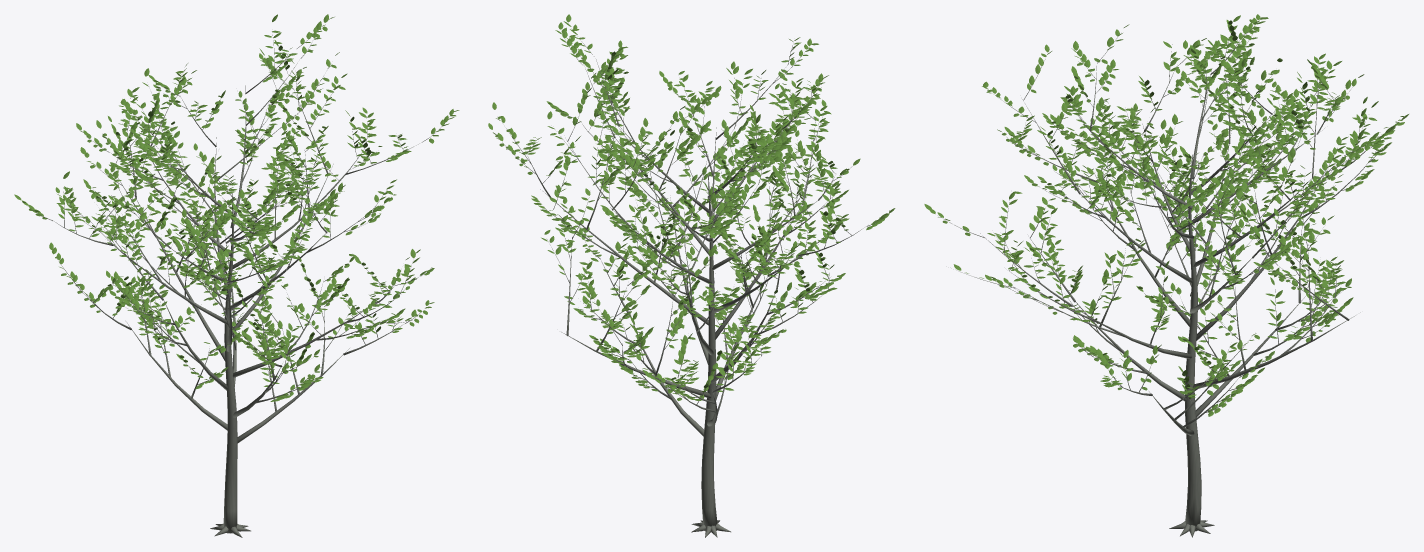
Rendered from Beech_Mature_02_Unpruned_LOD1.fbx.
The picture shows the model from 3 angles, left to right: view 1: azimuth 30°, elevation 25°; view 2: azimuth 150°, elevation 25°; view 3: azimuth 270°, elevation 25°; orthographic projection. The views are drawn at different scales.
Visible parts, largest first — view 1: Beech_Mature_02_Unpruned_LOD1; view 2: Beech_Mature_02_Unpruned_LOD1; view 3: Beech_Mature_02_Unpruned_LOD1.
Part boxes in pixels (bbox=[...]): Beech_Mature_02_Unpruned_LOD1: bbox=[14, 14, 459, 537]; Beech_Mature_02_Unpruned_LOD1: bbox=[488, 14, 895, 537]; Beech_Mature_02_Unpruned_LOD1: bbox=[924, 14, 1408, 537].
Bounding box in the file's own units: 1936 × 2301 × 1926.
Materials: 2 (1 with a texture image).
